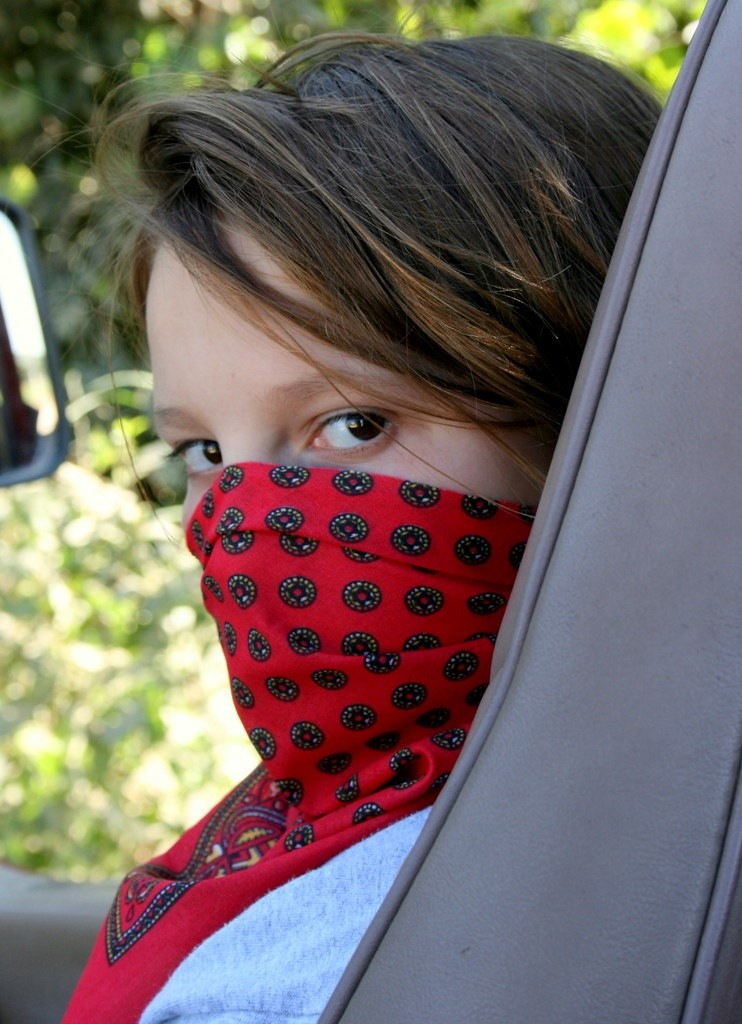face_with_mask: (130, 103, 601, 764)
